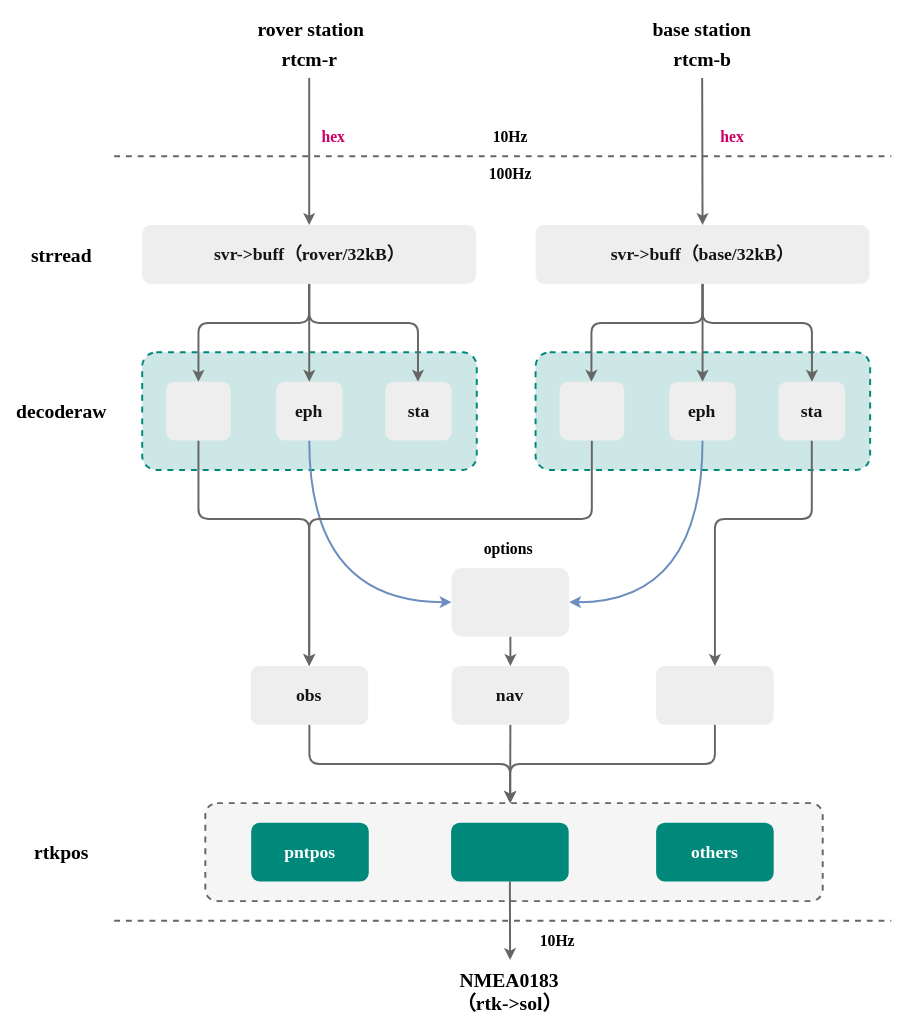
This 910x1031 diagram has some shape labels left out. Here are the shapes that lost their labels. From the top down, the centre of each, then its label:
the point at 198,410: msm7
the point at 591,410: msm4
the point at 510,601: 1. all 2. rover 3. base
the point at 714,694: rtk （rtk->rb）
the point at 509,851: relpos
